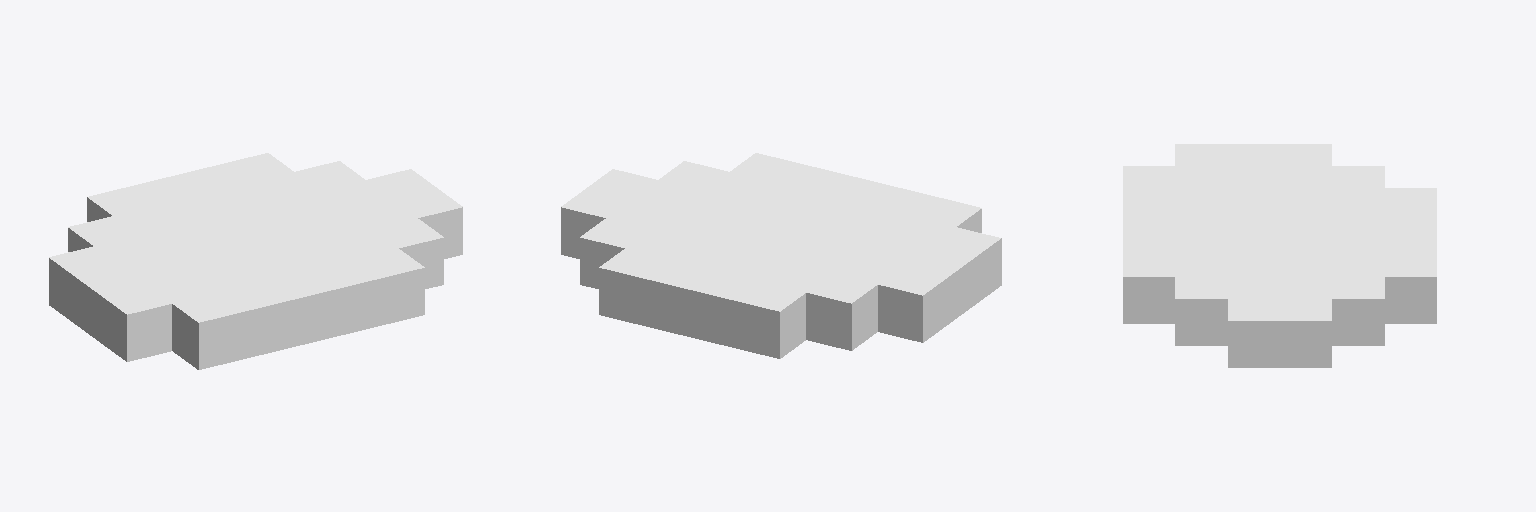
Rendered from Mini_rock.obj.
The picture shows the model from 3 angles: view 1: azimuth 30°, elevation 25°; view 2: azimuth 150°, elevation 25°; view 3: azimuth 270°, elevation 25°; orthographic projection.
Visible parts, largest first — view 1: object 1; view 2: object 1; view 3: object 1.
Part boxes in pixels (x1,y1,x2,y2): object 1: (49,153,462,369); object 1: (561,153,1001,358); object 1: (1123,144,1436,367).
Size of the model in its own units: 0.8 by 0.1 by 0.6.